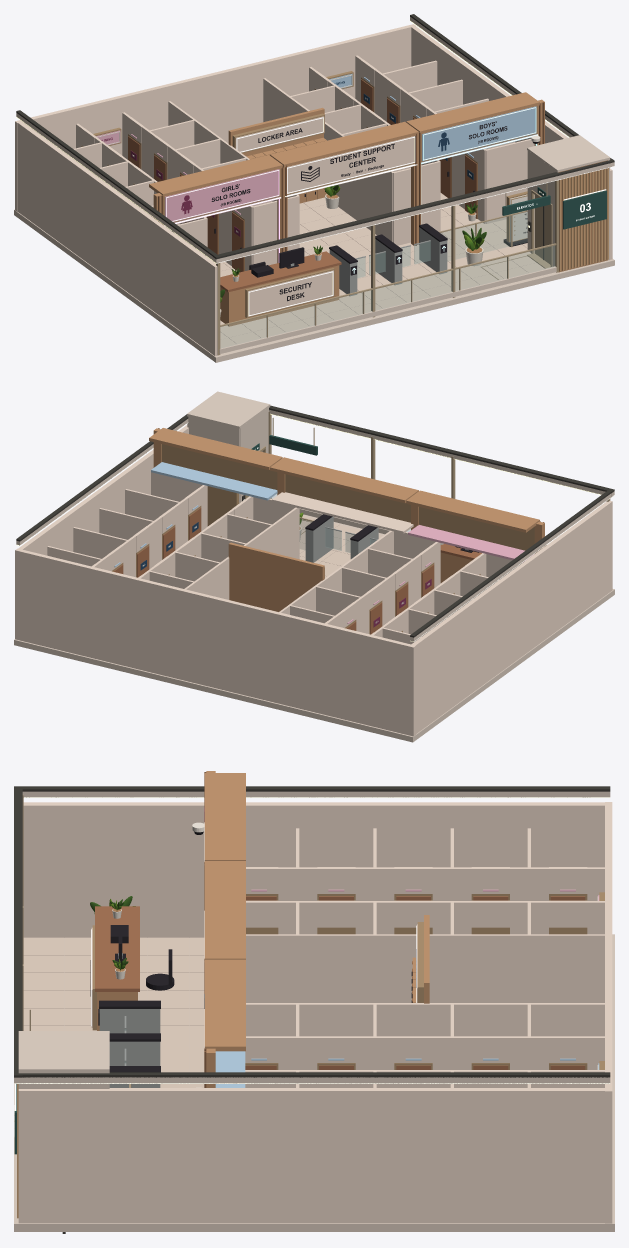
Rendered from Level_03.glb.
The picture shows the model from 3 angles, top to bottom: view 1: azimuth 30°, elevation 25°; view 2: azimuth 150°, elevation 25°; view 3: azimuth 270°, elevation 25°; orthographic projection. The views are drawn at different scales.
Parts seen in each view (by area): view 1: Tiled third-floor slab and perimeter, Illuminated lobby portals and wayfinding, Facade | fluted tower, floor marker and cornice, Gallery frontage | glazed parapet, B01 | solo room, B06 | solo room, G01 | solo room, Security reception and monitor, Aligned elevator | landing doors and well, Floor plate | lift well opening, Two glazed access lanes, Central bank of 36 secure lockers (+13 smaller); view 2: Tiled third-floor slab and perimeter, Illuminated lobby portals and wayfinding, Facade | fluted tower, floor marker and cornice, B01 | solo room, G01 | solo room, B06 | solo room, Central bank of 36 secure lockers, Floor plate | lift well opening, Aligned elevator | landing doors and well, G06 | solo room, Two glazed access lanes, G02 | solo room (+8 smaller); view 3: Tiled third-floor slab and perimeter, G01 | solo room, Facade | fluted tower, floor marker and cornice, B01 | solo room, Illuminated lobby portals and wayfinding, Floor plate | lift well opening, Security reception and monitor, Aligned elevator | landing doors and well, Two glazed access lanes, B04 | solo room, G08 | solo room, B02 | solo room (+11 smaller).
Boxes of the visible parts, x1=… form: Tiled third-floor slab and perimeter: x1=15, y1=24, x2=612, y2=356; Illuminated lobby portals and wayfinding: x1=149, y1=92, x2=544, y2=263; Facade | fluted tower, floor marker and cornice: x1=16, y1=14, x2=614, y2=355; Gallery frontage | glazed parapet: x1=219, y1=243, x2=556, y2=353; B01 | solo room: x1=263, y1=68, x2=440, y2=245; B06 | solo room: x1=358, y1=42, x2=534, y2=223; G01 | solo room: x1=125, y1=101, x2=299, y2=272; Security reception and monitor: x1=220, y1=247, x2=341, y2=326; Aligned elevator | landing doors and well: x1=527, y1=135, x2=610, y2=272; Floor plate | lift well opening: x1=14, y1=209, x2=614, y2=362; Two glazed access lanes: x1=329, y1=223, x2=447, y2=296; Central bank of 36 secure lockers: x1=228, y1=107, x2=326, y2=203; Tiled third-floor slab and perimeter: x1=15, y1=425, x2=612, y2=736; Illuminated lobby portals and wayfinding: x1=149, y1=428, x2=544, y2=562; Facade | fluted tower, floor marker and cornice: x1=16, y1=405, x2=614, y2=641; B01 | solo room: x1=149, y1=496, x2=299, y2=599; G01 | solo room: x1=279, y1=530, x2=440, y2=623; B06 | solo room: x1=47, y1=472, x2=207, y2=566; Central bank of 36 secure lockers: x1=228, y1=542, x2=324, y2=611; Floor plate | lift well opening: x1=14, y1=514, x2=614, y2=742; Aligned elevator | landing doors and well: x1=187, y1=391, x2=270, y2=502; G06 | solo room: x1=382, y1=553, x2=521, y2=644; Two glazed access lanes: x1=305, y1=514, x2=378, y2=562; G02 | solo room: x1=387, y1=559, x2=414, y2=621; Tiled third-floor slab and perimeter: x1=18, y1=802, x2=612, y2=1223; G01 | solo room: x1=246, y1=900, x2=604, y2=1002; Facade | fluted tower, floor marker and cornice: x1=14, y1=786, x2=610, y2=1218; B01 | solo room: x1=245, y1=1003, x2=604, y2=1069; Illuminated lobby portals and wayfinding: x1=204, y1=771, x2=245, y2=1087; Floor plate | lift well opening: x1=14, y1=934, x2=614, y2=1231; Security reception and monitor: x1=91, y1=906, x2=174, y2=1030; Aligned elevator | landing doors and well: x1=18, y1=1031, x2=109, y2=1233; Two glazed access lanes: x1=98, y1=1000, x2=160, y2=1087; B04 | solo room: x1=452, y1=1036, x2=529, y2=1069; G08 | solo room: x1=375, y1=867, x2=452, y2=900; B02 | solo room: x1=297, y1=1036, x2=374, y2=1069.
Size of the model in its own units: 16.42 by 4.85 by 14.4.
